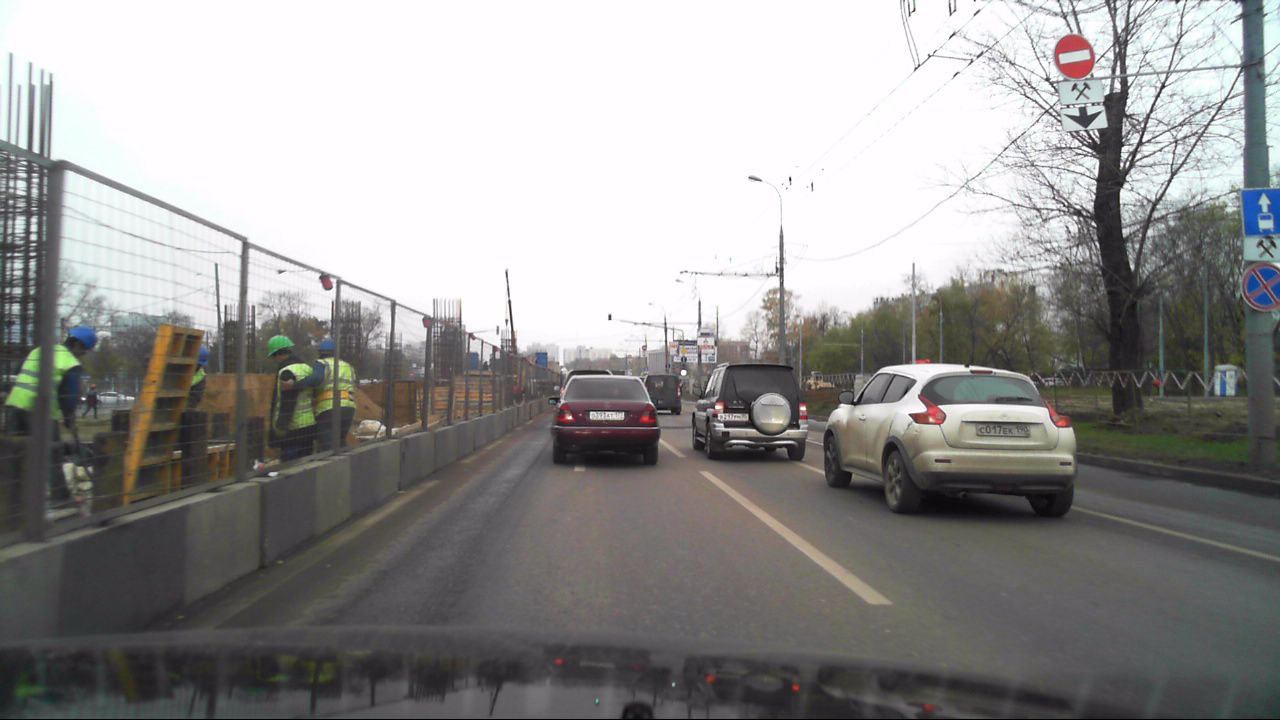No Parking: (1240, 268, 1279, 310)
